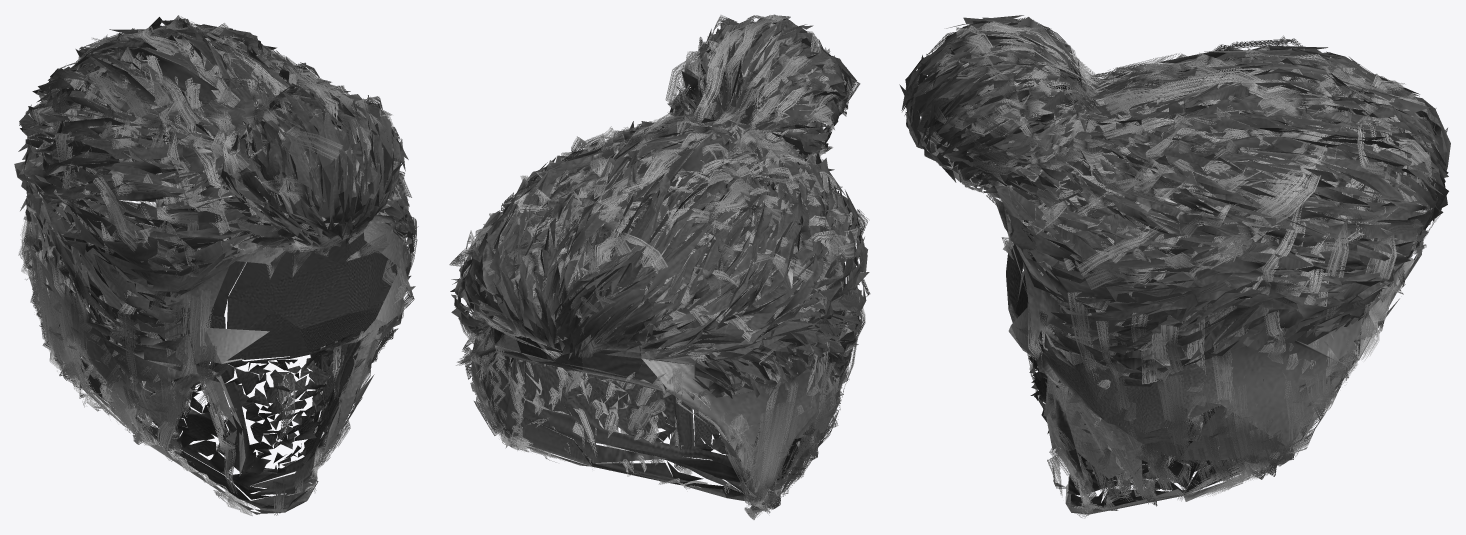
File: hair_bun.glb
The picture shows the model from 3 angles, left to right: view 1: azimuth 30°, elevation 25°; view 2: azimuth 150°, elevation 25°; view 3: azimuth 270°, elevation 25°; orthographic projection. The views are drawn at different scales.
Visible parts, largest first — view 1: Mesh_0, haircards; view 2: Mesh_0, haircards; view 3: Mesh_0, haircards.
Part boxes in pixels (left/top/right/bottom): Mesh_0: left=14, top=17, right=418, bottom=514; haircards: left=18, top=15, right=417, bottom=515; Mesh_0: left=450, top=14, right=869, bottom=510; haircards: left=449, top=15, right=870, bottom=519; Mesh_0: left=899, top=15, right=1450, bottom=514; haircards: left=910, top=17, right=1447, bottom=518.
Bounding box in the file's own units: 0.2268 × 0.3 × 0.3052.
2 materials, 2 textured.
